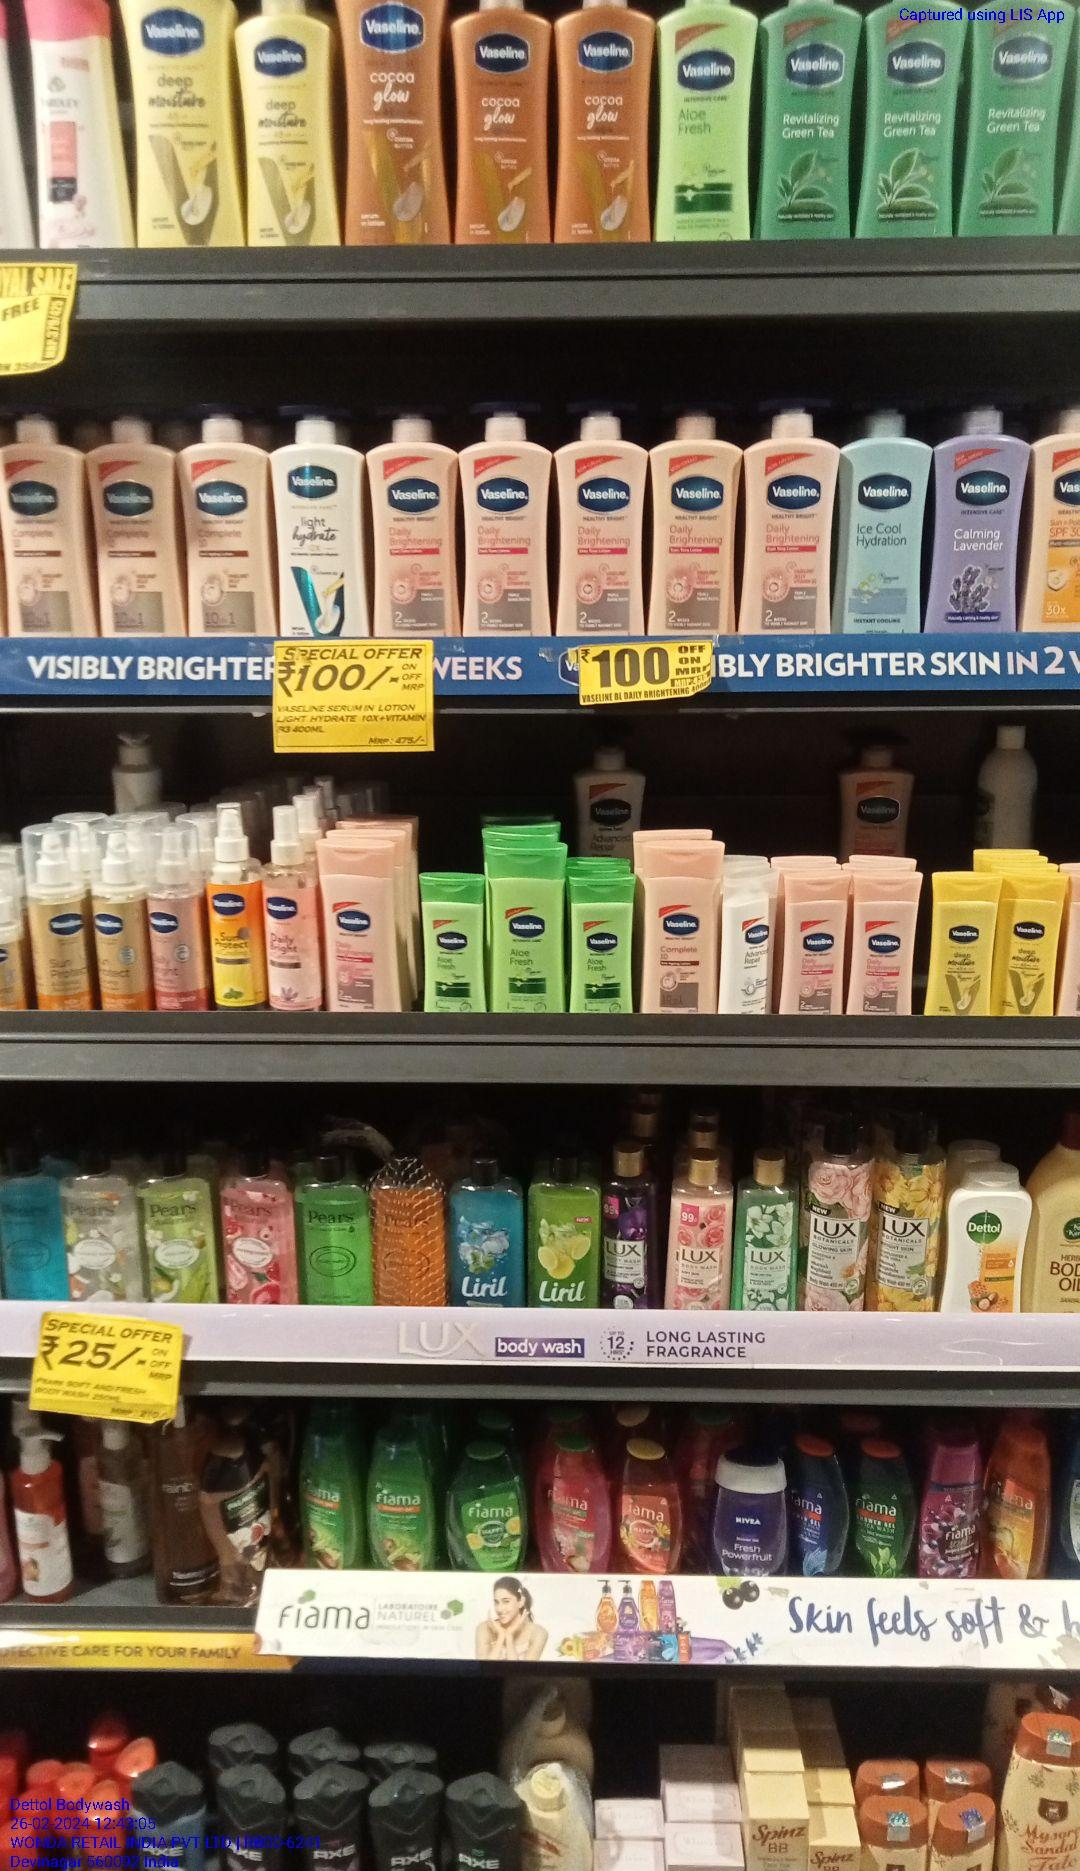Dettol_Nourish_Body_Wash_250ML: (949, 1164, 1031, 1313)
Fiama_Shower_Gel_Lemongrass_and_Jojoba_250ML: (368, 1435, 433, 1570), (300, 1424, 360, 1569)
Fiama_Shower_Gel_Patchouli_and_Macadamia_250ML: (537, 1435, 611, 1570)
Fiama_Shower_Gel_Peach_and_Avocado_250ML: (990, 1429, 1052, 1578)
Liril_Cooling_Mint_Body_Wash_250ML: (446, 1159, 523, 1307)
Liril_Lime_and_Tea_Tree_Oil_Body_Wash_250ML: (528, 1150, 598, 1308)
Lux_Black_Orchid_Scent_and_Juniper_Oil_Body_Wash_245ML: (604, 1150, 658, 1308)
Lux_Body_Wash_Skin_Detox_Freesia_Scent_and_Alove_Vera_245ML: (737, 1155, 797, 1308)
Nivea_Shower_Gel_Fresh_Powerfruit_250ML: (714, 1456, 787, 1575)
Palmolive_Luminous_Oils_With_White_Orchid_Shower_Gel_250ML: (203, 1438, 279, 1609)
Pears_Pure_Glycerin_and_Lemon_Flower_Extracts_Body_Wash_250ML: (298, 1155, 373, 1304)
Pears_Pure_Glycerin_and_Mint_Extracts_Body_Wash_250ML: (0, 1155, 60, 1299)
